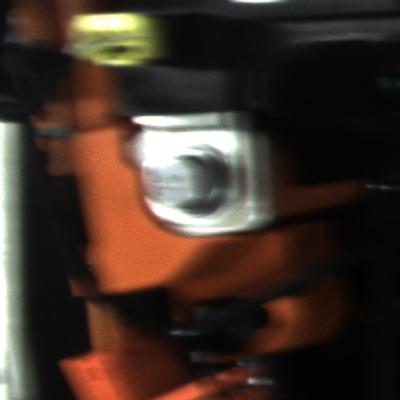nut_b: (140, 138, 234, 225)
